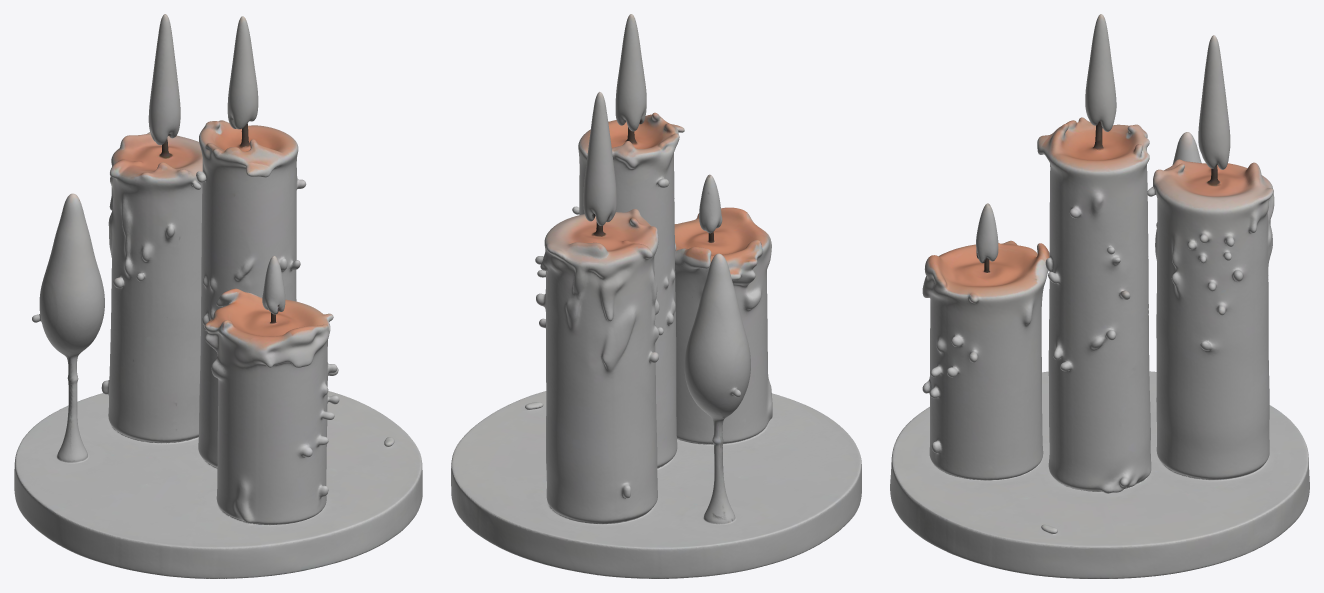
File: detailed_realistic_model_floatingcandles_24.glb
3 renders of one model, left to right at view 1: azimuth 30°, elevation 25°; view 2: azimuth 150°, elevation 25°; view 3: azimuth 270°, elevation 25°, orthographic. The views are drawn at different scales.
Visible parts, largest first — view 1: tripo_node_13b363d5-733c-4058-9a64-c407dcd399c4; view 2: tripo_node_13b363d5-733c-4058-9a64-c407dcd399c4; view 3: tripo_node_13b363d5-733c-4058-9a64-c407dcd399c4.
Boxes of the visible parts, x1,y1,x2,y2 form: tripo_node_13b363d5-733c-4058-9a64-c407dcd399c4: [14, 14, 422, 578]; tripo_node_13b363d5-733c-4058-9a64-c407dcd399c4: [451, 14, 861, 578]; tripo_node_13b363d5-733c-4058-9a64-c407dcd399c4: [890, 14, 1309, 578].
Size of the model in its own units: 0.7798 by 1 by 0.7778.
1 material, 1 textured.
